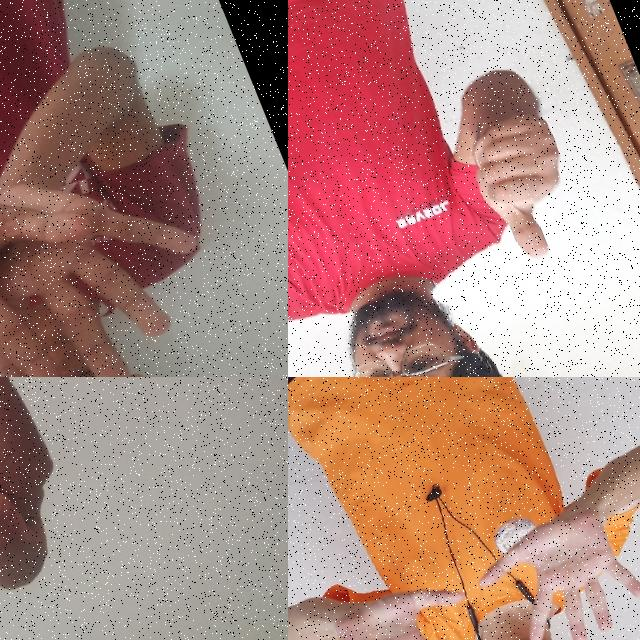Dulya: (0, 377, 106, 640)
Moutza: (0, 108, 239, 377), (0, 123, 160, 377), (457, 478, 640, 640), (291, 560, 506, 640)
Thumbs Up: (443, 90, 608, 286)
